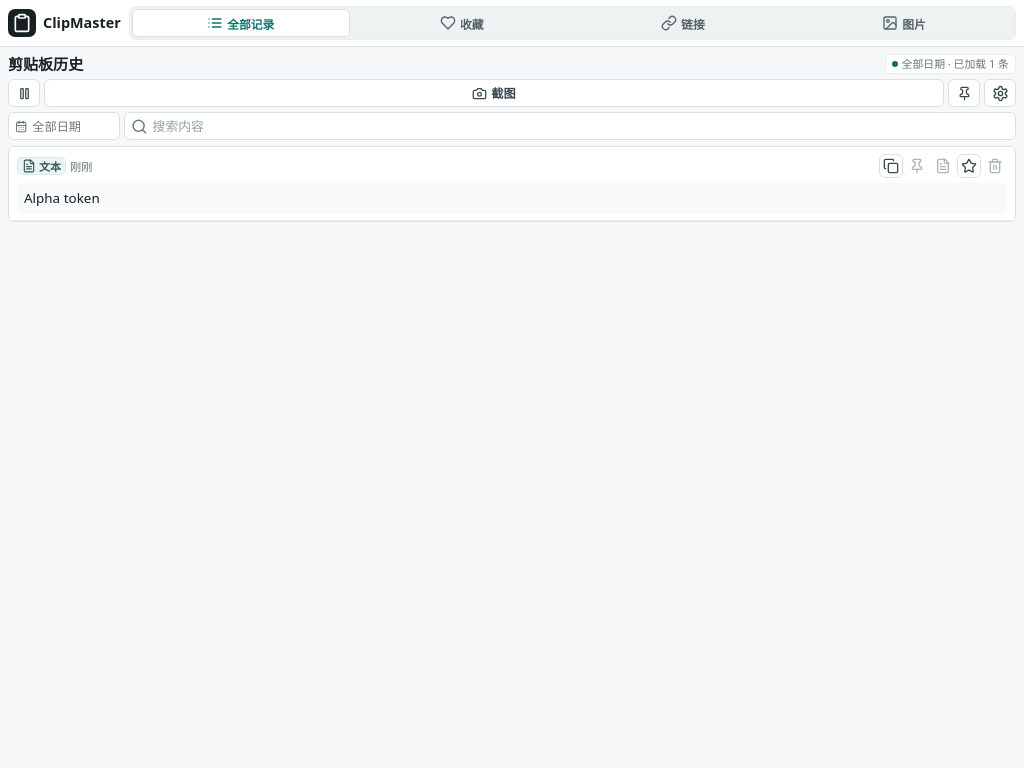
Test: App UI › shows a toast error when ordinary record deletion fails
The width and height of the screenshot is (1024, 768).
Expected: the button "Alpha token" is shown, [17,183,1007,213]
Click the button named "删除 Alpha token". click: (995, 166)
box: [983,154,1007,178]
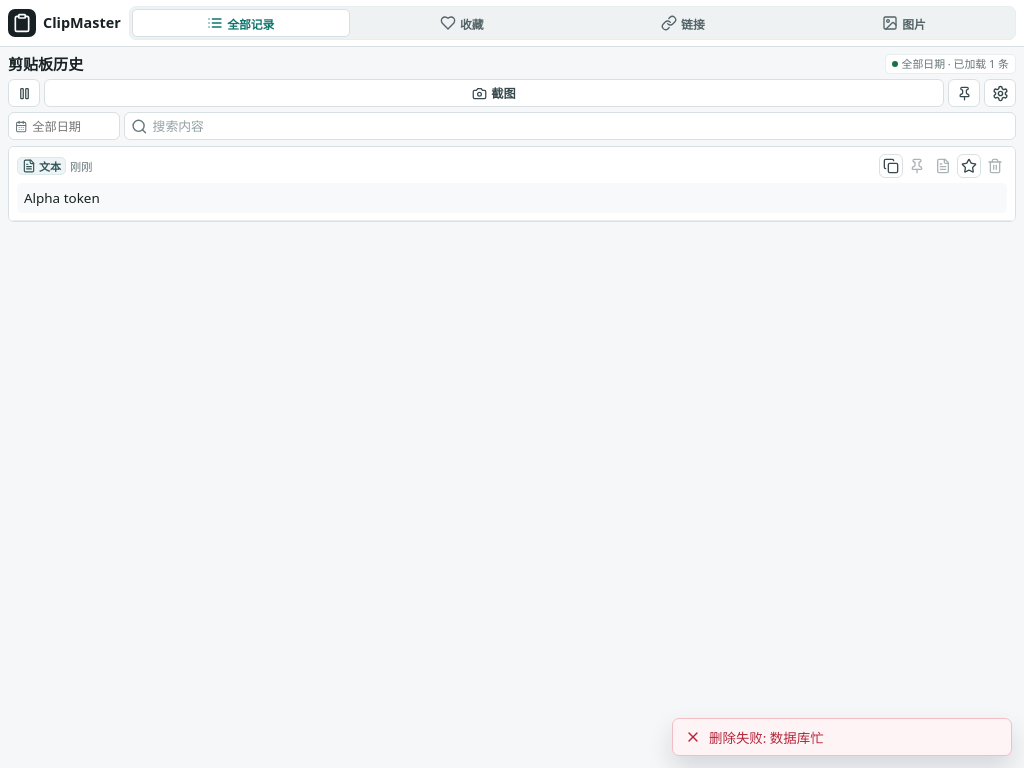
Expected: the button "Alpha token" is shown, [17,183,1007,213]
Now the message reads "删除失败: 数据库忙", box [709,729,824,747]
